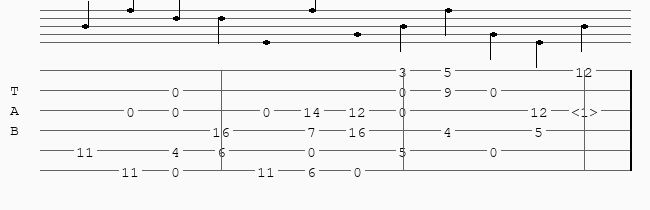0: (126, 104, 139, 117), (171, 164, 184, 177), (171, 84, 184, 97), (171, 104, 184, 117), (262, 104, 275, 117), (307, 144, 320, 157), (353, 164, 366, 177), (398, 104, 411, 117), (398, 84, 411, 97), (489, 144, 502, 157), (489, 84, 502, 97)
11: (76, 144, 98, 157), (121, 164, 143, 177), (257, 164, 279, 177)
12: (348, 104, 370, 117), (530, 104, 552, 117), (575, 64, 597, 77)
14: (303, 104, 325, 117)
16: (212, 124, 234, 137), (348, 124, 370, 137)
3: (398, 64, 411, 77)
4: (171, 144, 184, 157), (443, 124, 456, 137)
5: (398, 144, 411, 157), (443, 64, 456, 77), (534, 124, 547, 137)
6: (217, 144, 230, 157), (307, 164, 320, 177)
7: (307, 124, 320, 137)
9: (443, 84, 456, 97)
harmonic: (571, 104, 602, 117)
